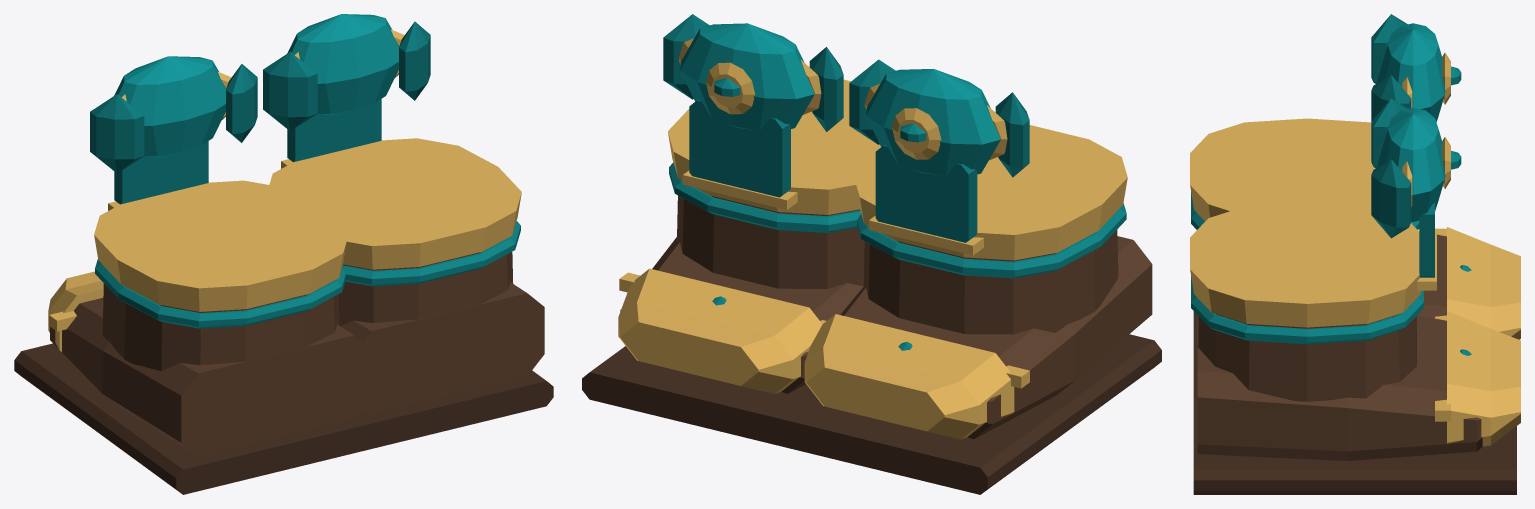
The model's file is look3_shoes_dualblade_ancient.fbx.
3 renders of one model, left to right at view 1: azimuth 30°, elevation 25°; view 2: azimuth 150°, elevation 25°; view 3: azimuth 270°, elevation 25°, orthographic. The views are drawn at different scales.
Visible parts, largest first — view 1: Greave_L, Greave_R, Boot_L, Boot_R; view 2: Greave_L, Boot_L, Greave_R, Boot_R; view 3: Greave_R, Boot_R, Greave_L, Boot_L.
Boxes of the visible parts, x1=… form: Greave_L: x1=90, y1=56, x2=347, y2=371; Greave_R: x1=263, y1=14, x2=521, y2=326; Boot_L: x1=14, y1=271, x2=380, y2=494; Boot_R: x1=341, y1=282, x2=553, y2=448; Greave_L: x1=849, y1=59, x2=1127, y2=334; Boot_L: x1=768, y1=236, x2=1161, y2=494; Greave_R: x1=663, y1=14, x2=880, y2=288; Boot_R: x1=582, y1=237, x2=863, y2=449; Greave_R: x1=1190, y1=98, x2=1461, y2=401; Boot_R: x1=1193, y1=311, x2=1520, y2=494; Greave_L: x1=1190, y1=14, x2=1461, y2=229; Boot_L: x1=1193, y1=227, x2=1520, y2=384.
Size of the model in its own units: 220 by 185 by 166.
